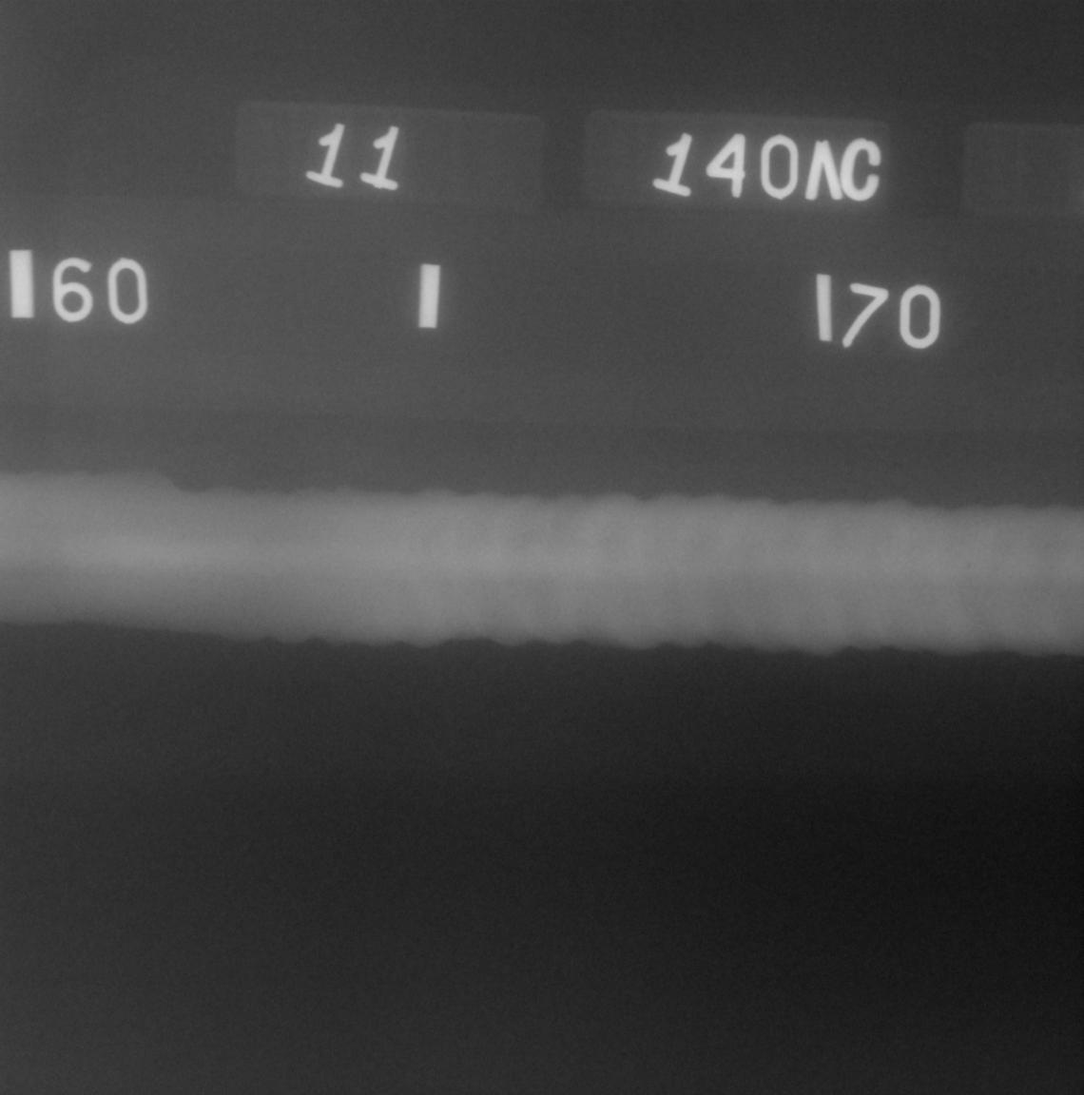Pore/Porosity: (966, 564, 972, 570)
